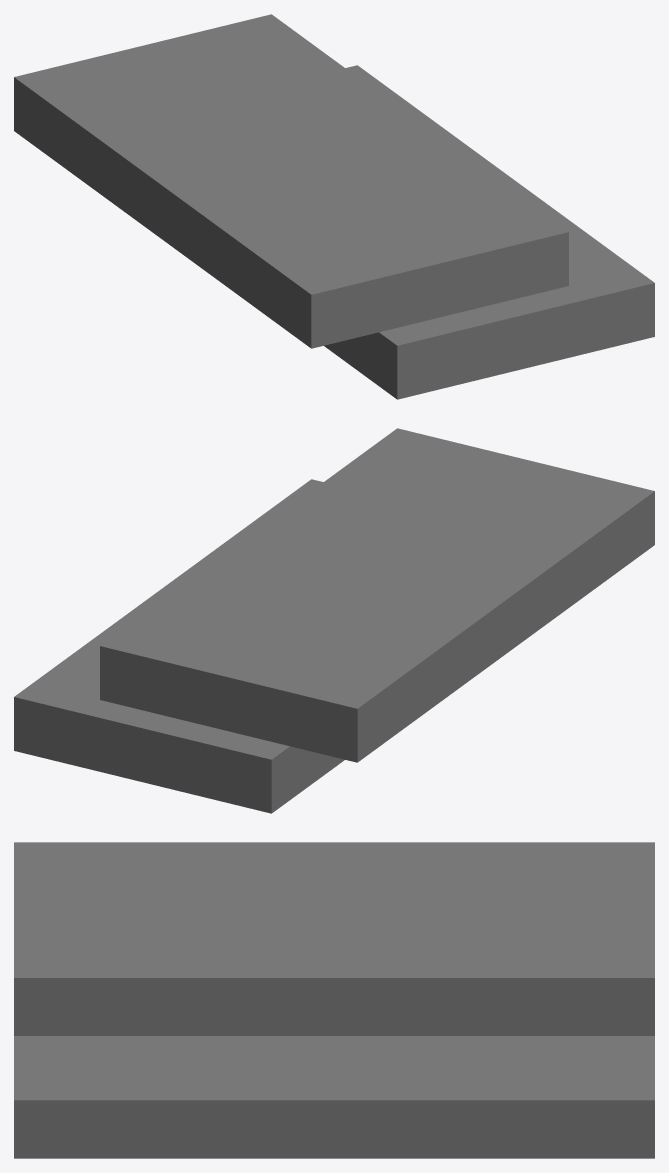
Rendered from Н2_Кромки.glb.
3 views of the same model, one above another, from view 1: azimuth 30°, elevation 25°; view 2: azimuth 150°, elevation 25°; view 3: azimuth 270°, elevation 25° (orthographic). The views are drawn at different scales.
Parts seen in each view (by area): view 1: node_id3; view 2: node_id3; view 3: node_id3.
Part boxes in pixels (bbox=[...]): node_id3: bbox=[14, 14, 654, 399]; node_id3: bbox=[14, 428, 654, 813]; node_id3: bbox=[14, 842, 654, 1158].
Size of the model in its own units: 0.512 by 0.1792 by 0.768.
Materials: 1 (1 with a texture image).
